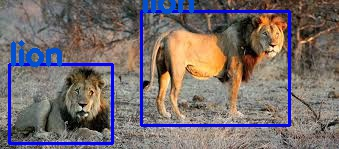lion: (140, 10, 288, 125), (8, 64, 112, 142)
